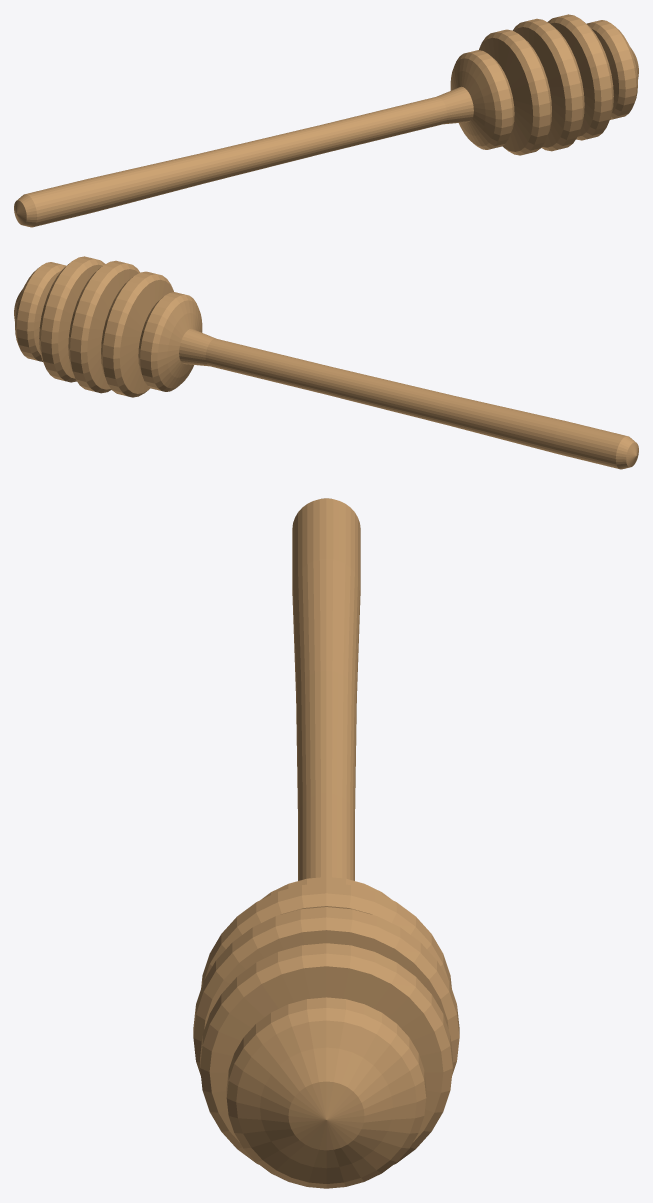
Rendered from NEW_RECOVERY_091_LOD0.fbx.
3 views of the same model, one above another, from view 1: azimuth 30°, elevation 25°; view 2: azimuth 150°, elevation 25°; view 3: azimuth 270°, elevation 25° (orthographic). The views are drawn at different scales.
Visible parts, largest first — view 1: Honey dipper; view 2: Honey dipper; view 3: Honey dipper.
Part boxes in pixels (<box>): Honey dipper: <box>14,14,638,227</box>; Honey dipper: <box>14,256,638,469</box>; Honey dipper: <box>193,498,459,1188</box>.
Size of the model in its own units: 15 by 2.8 by 2.8.
